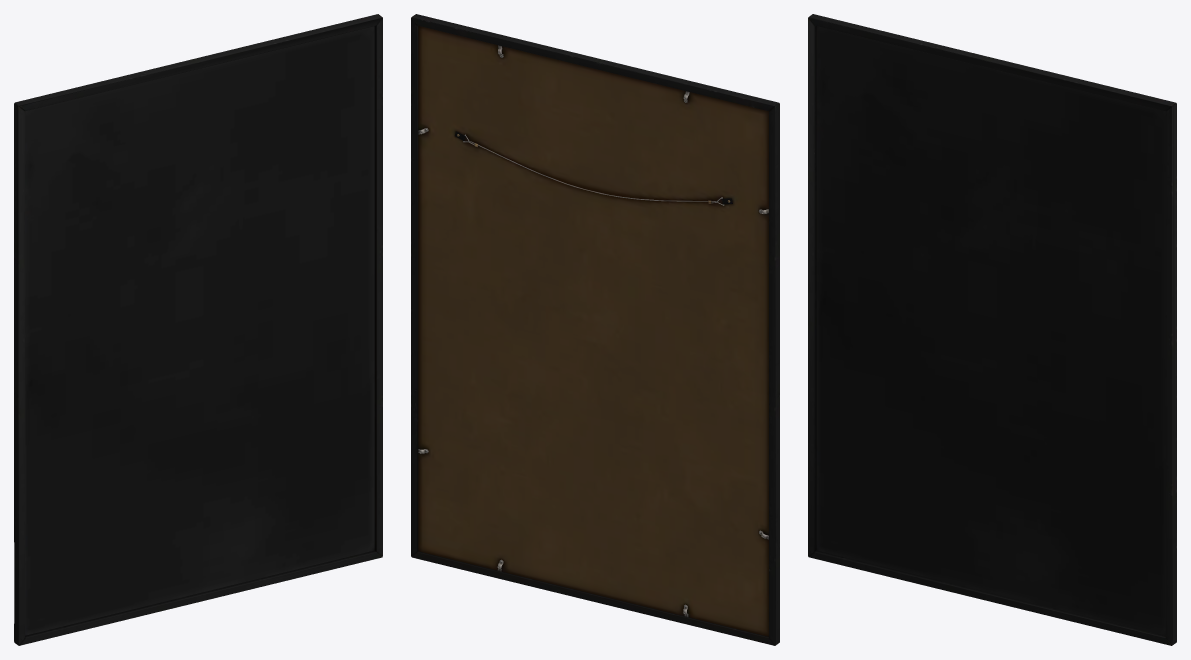
File: frame2.glb
3 renders of one model, left to right at view 1: azimuth 30°, elevation 25°; view 2: azimuth 150°, elevation 25°; view 3: azimuth 330°, elevation 25°, orthographic.
Visible parts, largest first — view 1: hanging_picture_frame_01; view 2: hanging_picture_frame_01; view 3: hanging_picture_frame_01.
Part boxes in pixels (x1,y1,x2,y2): hanging_picture_frame_01: [14, 14, 382, 645]; hanging_picture_frame_01: [411, 14, 779, 645]; hanging_picture_frame_01: [808, 14, 1176, 645].
Size of the model in its own units: 0.594 by 0.841 by 0.0157.
Materials: 3 (3 with a texture image).
